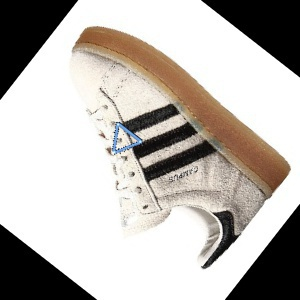triangle: (110, 119, 146, 155)
